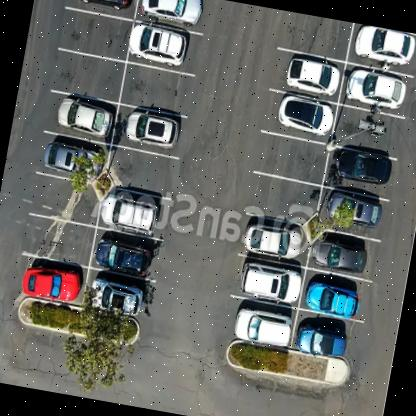Car: (94, 168, 172, 240), (116, 11, 193, 79), (15, 245, 86, 309), (116, 98, 186, 160), (50, 78, 120, 139), (80, 266, 158, 320), (32, 130, 108, 184), (268, 85, 342, 139), (235, 254, 306, 310), (238, 209, 309, 264), (90, 236, 158, 289), (226, 306, 296, 354), (279, 52, 342, 105), (305, 233, 374, 281), (341, 69, 412, 115), (290, 314, 350, 367), (324, 144, 388, 192), (348, 22, 414, 68), (301, 279, 364, 325), (322, 190, 388, 233), (134, 0, 204, 36), (64, 0, 142, 16)
Empty: (242, 174, 318, 228), (108, 142, 178, 197), (334, 102, 407, 154), (121, 64, 186, 120), (276, 10, 350, 58), (52, 52, 122, 101), (254, 138, 326, 184), (28, 180, 100, 226), (21, 221, 93, 267), (59, 10, 129, 56)
